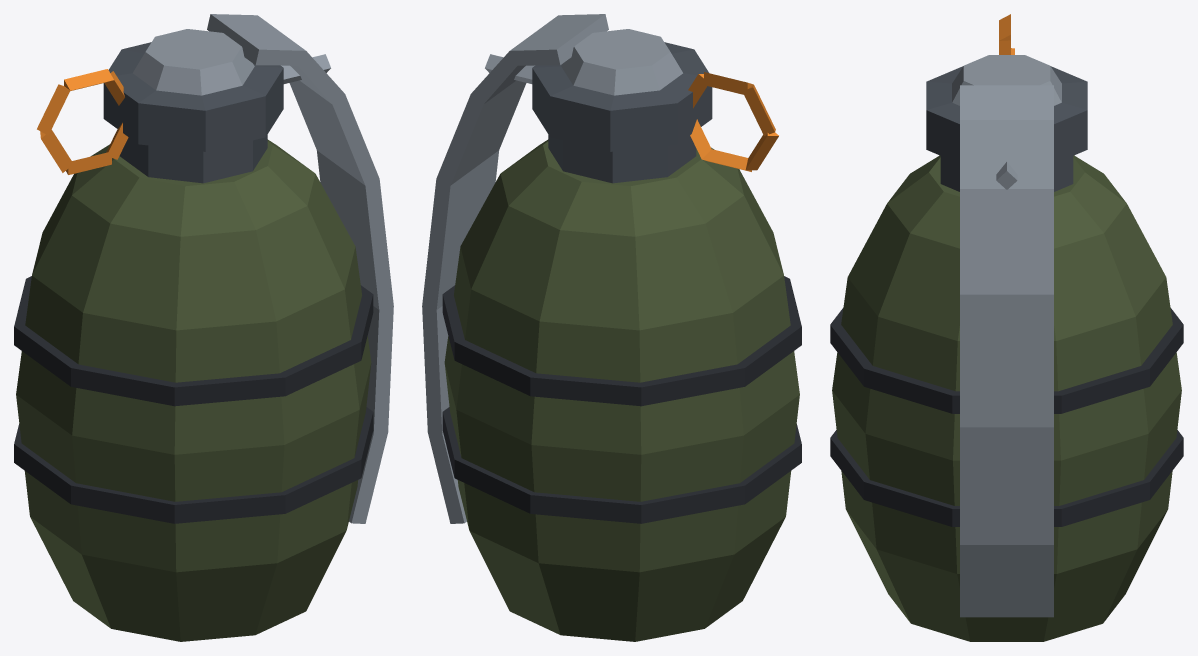
The model's file is grenade.glb.
3 views of the same model, side by side, from view 1: azimuth 30°, elevation 25°; view 2: azimuth 150°, elevation 25°; view 3: azimuth 270°, elevation 25° (orthographic). The views are drawn at different scales.
Parts seen in each view (by area): view 1: Body; view 2: Body; view 3: Body.
Boxes of the visible parts, x1,y1,x2,y2 form: Body: (14,14,393,641); Body: (422,14,801,641); Body: (830,14,1183,641).
Size of the model in its own units: 0.0589 by 0.0973 by 0.0566.
